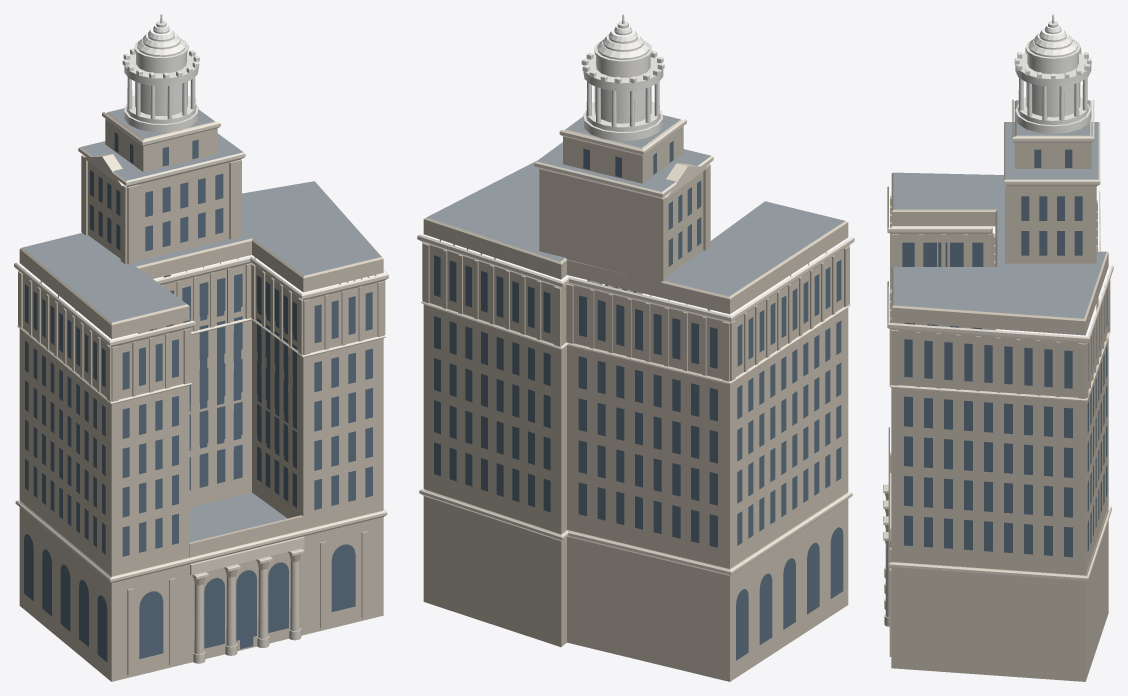
Rendered from nola-hibernia-bank-building.glb.
3 renders of one model, left to right at view 1: azimuth 30°, elevation 25°; view 2: azimuth 150°, elevation 25°; view 3: azimuth 270°, elevation 25°, orthographic. The views are drawn at different scales.
Parts seen in each view (by area): view 1: Hibernia Bank Building; view 2: Hibernia Bank Building; view 3: Hibernia Bank Building.
Boxes of the visible parts, left/top/right/bottom form: Hibernia Bank Building: left=14, top=14, right=388, bottom=681; Hibernia Bank Building: left=417, top=14, right=854, bottom=681; Hibernia Bank Building: left=883, top=14, right=1113, bottom=681.
Size of the model in its own units: 59.68 by 107 by 38.21.
